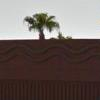Palm tree: (18, 6, 69, 39)
